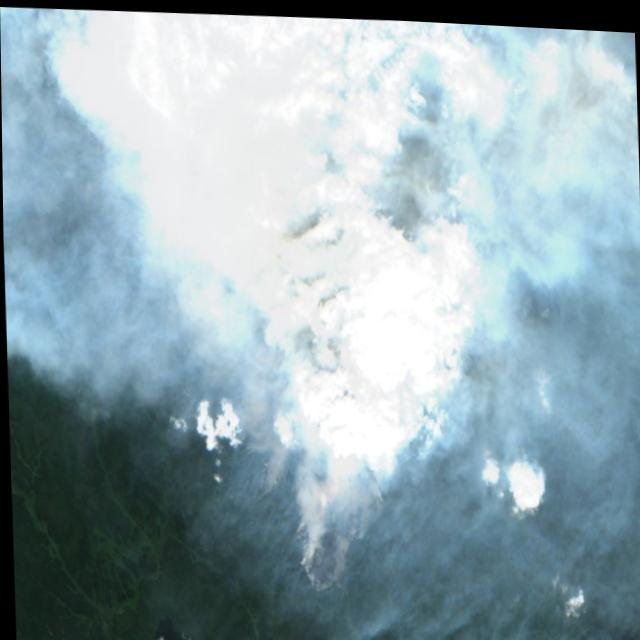fire: (202, 152, 395, 595)
